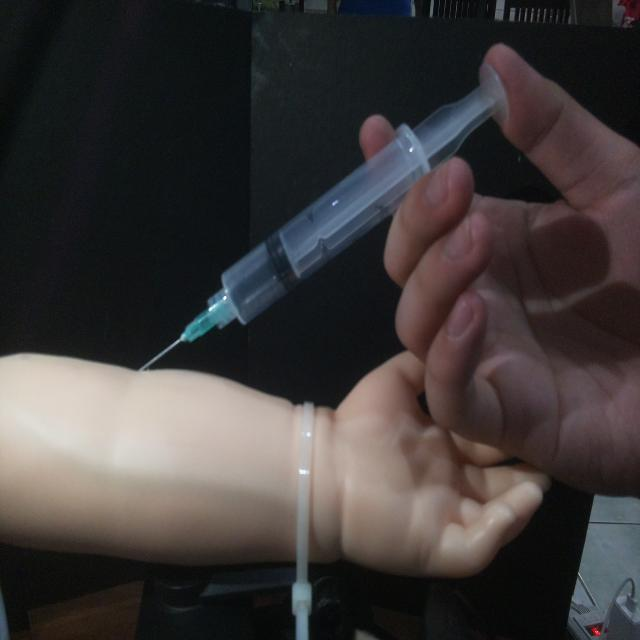28deg: (134, 58, 512, 374)
